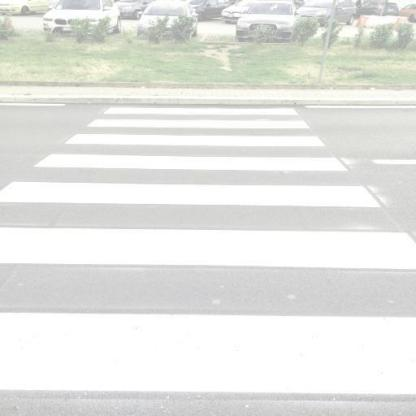crosswalk: (0, 217, 416, 408), (27, 130, 357, 177)
